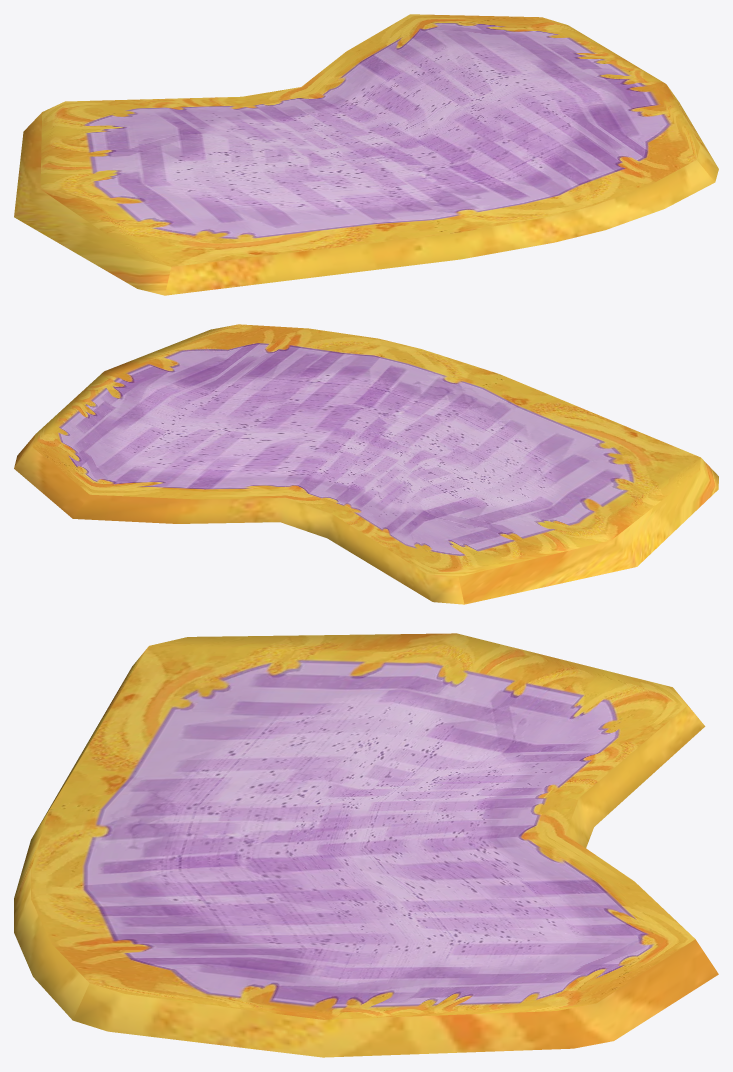
Rendered from path-01-art.glb.
3 renders of one model, top to bottom at view 1: azimuth 30°, elevation 25°; view 2: azimuth 150°, elevation 25°; view 3: azimuth 270°, elevation 25°, orthographic. The views are drawn at different scales.
Parts seen in each view (by area): view 1: Path_01_Art; view 2: Path_01_Art; view 3: Path_01_Art.
Part boxes in pixels (x1,y1,x2,y2): Path_01_Art: (14,14,718,295); Path_01_Art: (14,324,718,604); Path_01_Art: (14,633,718,1057).
Size of what is drawn, in the model's own units: 6.33 by 0.2078 by 4.57.
Materials: 1 (1 with a texture image).
